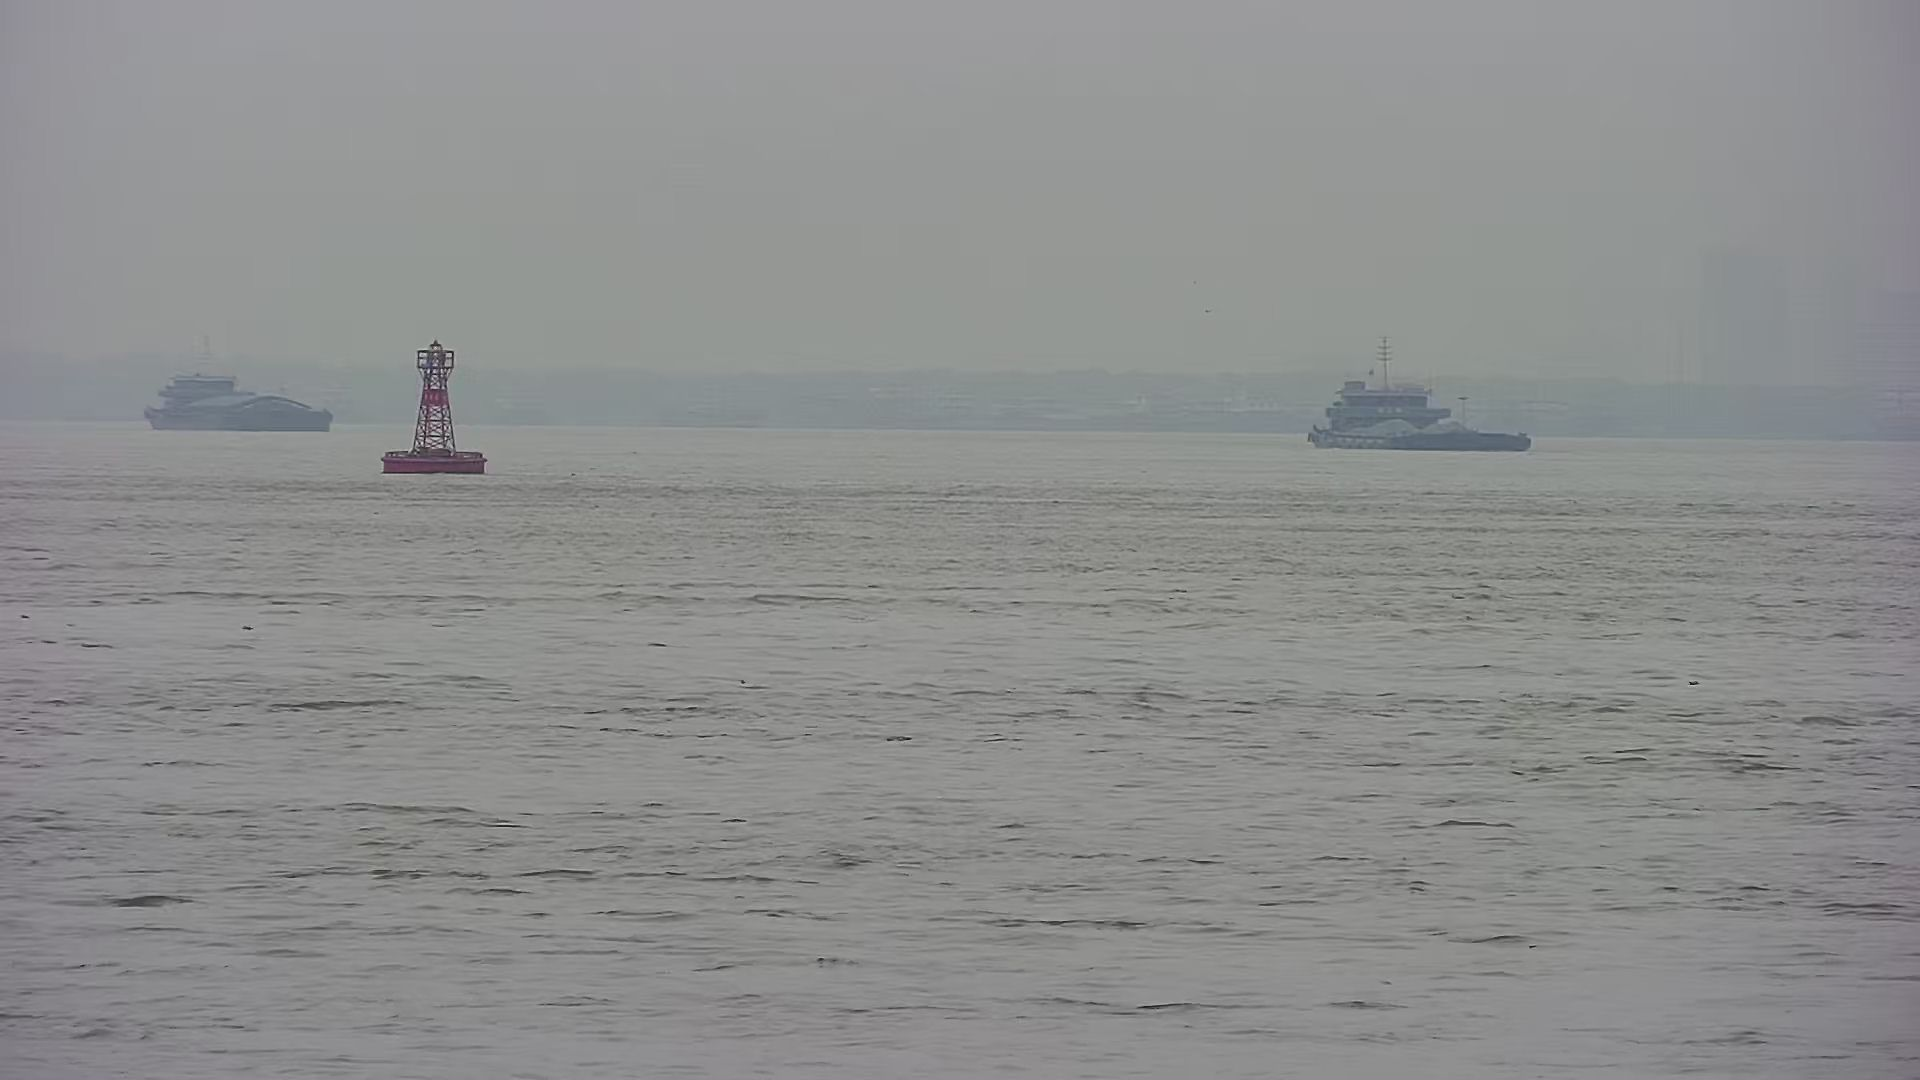buoy: (375, 327, 501, 484)
ship: (1278, 349, 1538, 456), (129, 352, 345, 442)
